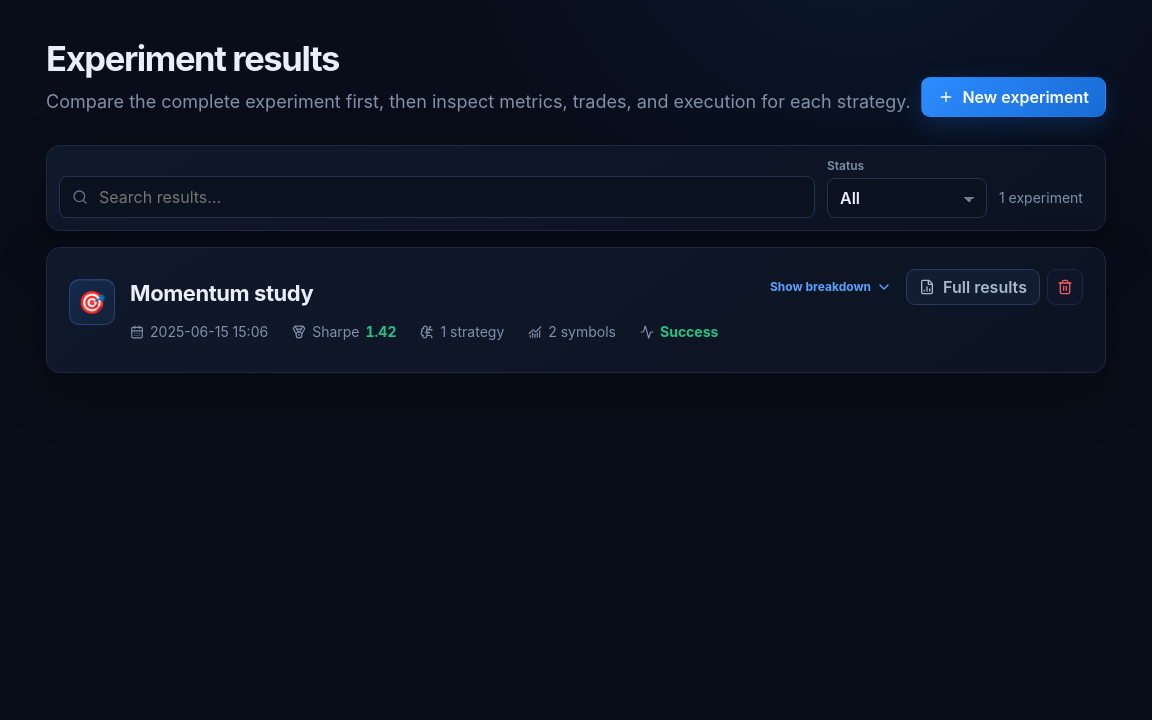
results page › uses an icon instead of a duplicated benchmark pill in the strategy selector
Click the button with class "secondary" at {"x": 973, "y": 287}, box [906,269,1040,305]
(page scrolled)
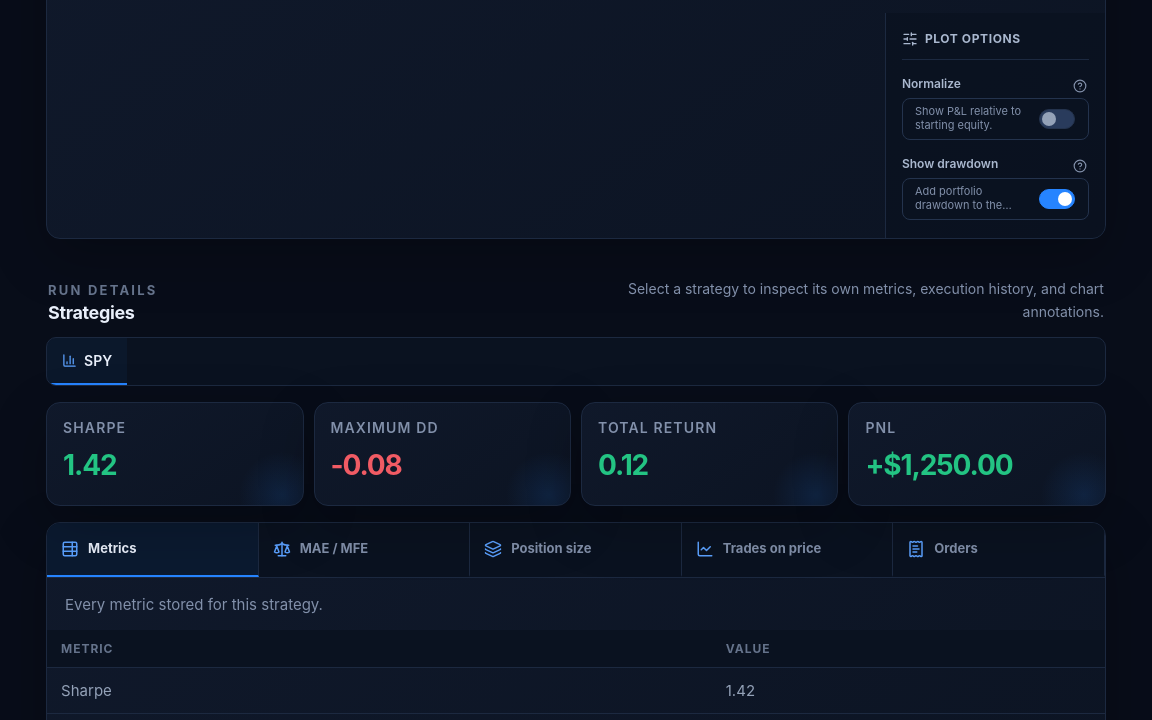
Expected: the 4th icon is shown, [62,353,77,368]
Expected: the button "SPY" is shown, [47,338,127,385]
